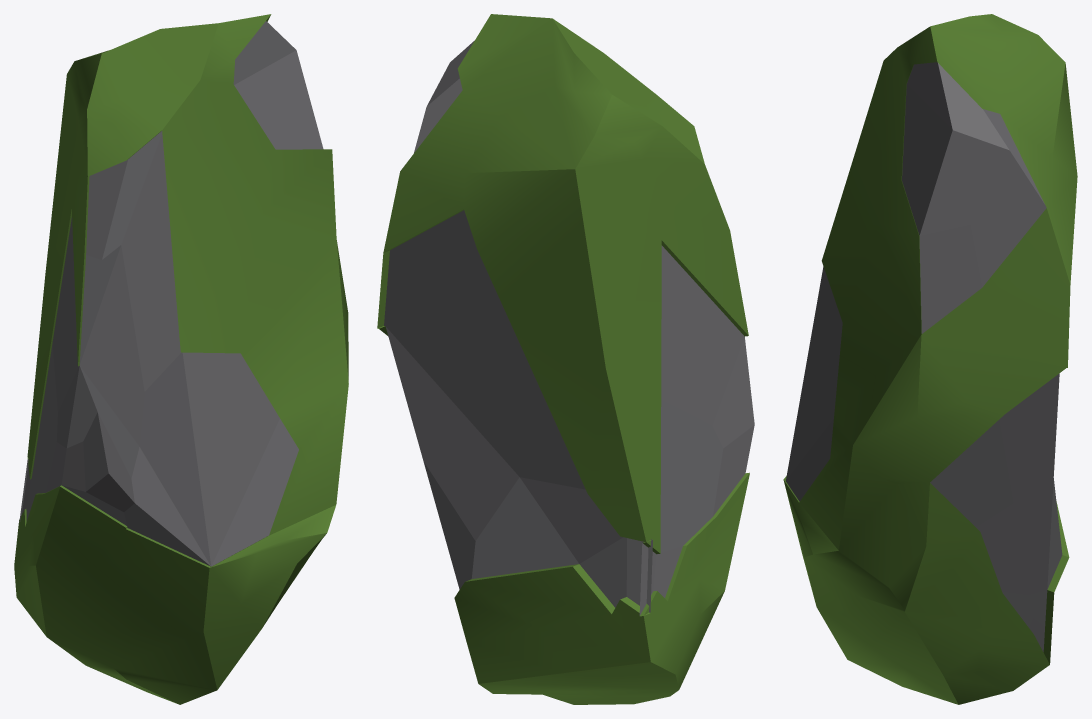
File: RockLargeMoss_01.glb
3 renders of one model, left to right at view 1: azimuth 30°, elevation 25°; view 2: azimuth 150°, elevation 25°; view 3: azimuth 270°, elevation 25°, orthographic. The views are drawn at different scales.
Visible parts, largest first — view 1: RockLargeMoss_01; view 2: RockLargeMoss_01; view 3: RockLargeMoss_01.
Boxes of the visible parts, left/top/right/bottom form: RockLargeMoss_01: left=14, top=14, right=348, bottom=704; RockLargeMoss_01: left=377, top=14, right=754, bottom=704; RockLargeMoss_01: left=783, top=14, right=1077, bottom=704.
Size of what is drawn, in the model's own units: 1.92 by 4.02 by 1.57.
Materials: 1 (1 with a texture image).
